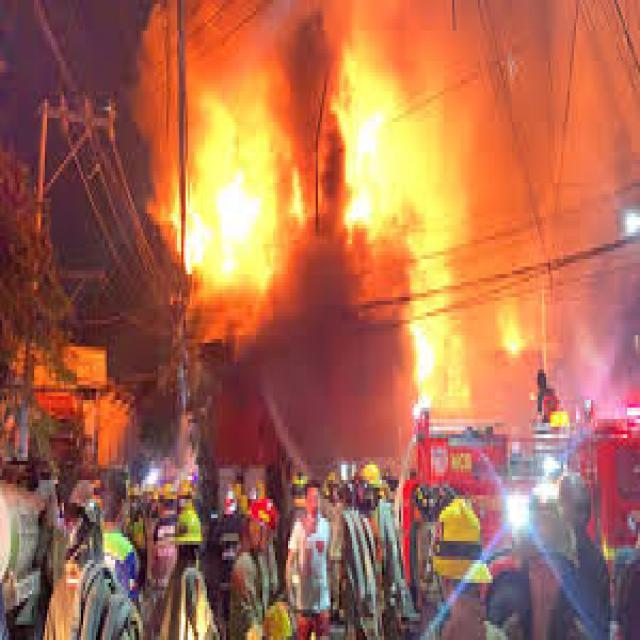Fire: (327, 49, 472, 422), (173, 84, 289, 308)
Smoke: (244, 187, 423, 483)
